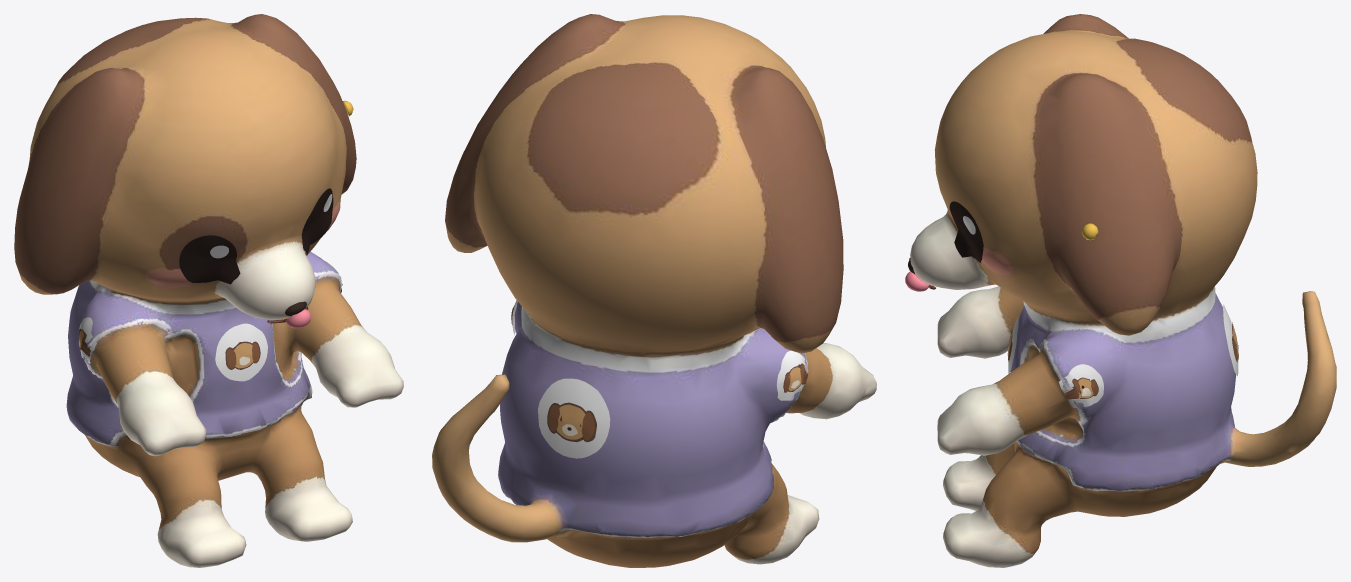
File: dog.glb
3 views of the same model, side by side, from view 1: azimuth 30°, elevation 25°; view 2: azimuth 150°, elevation 25°; view 3: azimuth 270°, elevation 25° (orthographic). The views are drawn at different scales.
Parts seen in each view (by area): view 1: chibi, face; view 2: chibi, face; view 3: chibi, face.
Part boxes in pixels (x1,y1,x2,y2): chibi: [14, 14, 403, 567]; face: [78, 100, 353, 381]; chibi: [432, 14, 876, 567]; face: [511, 300, 807, 458]; chibi: [910, 14, 1336, 567]; face: [905, 201, 1238, 407].
Bounding box in the file's own units: 0.8021 × 1.13 × 0.9025.
31 materials, 1 textured.
